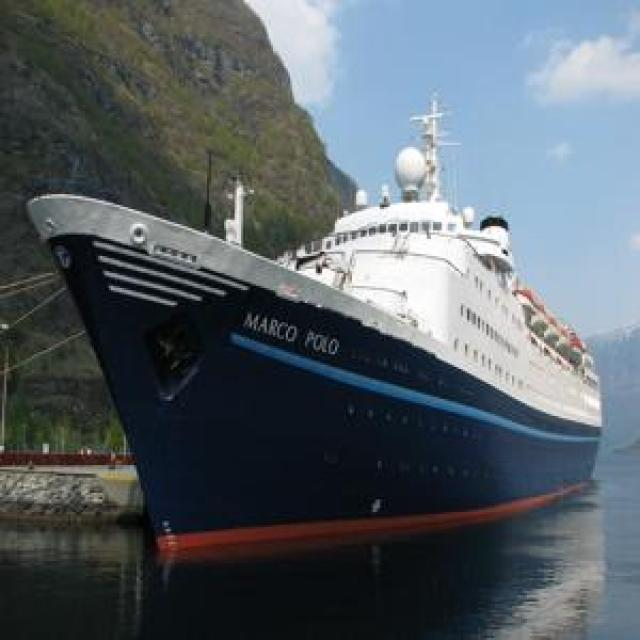passenger ship: (21, 110, 613, 552)
